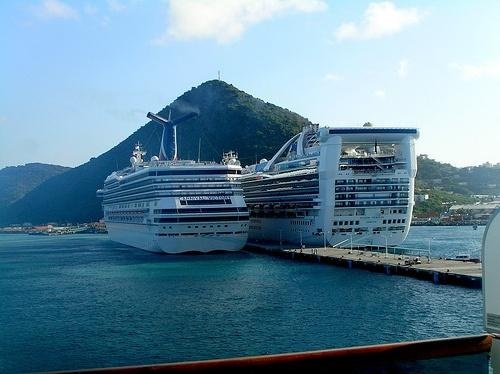boat: (94, 104, 253, 256), (244, 122, 420, 257)
